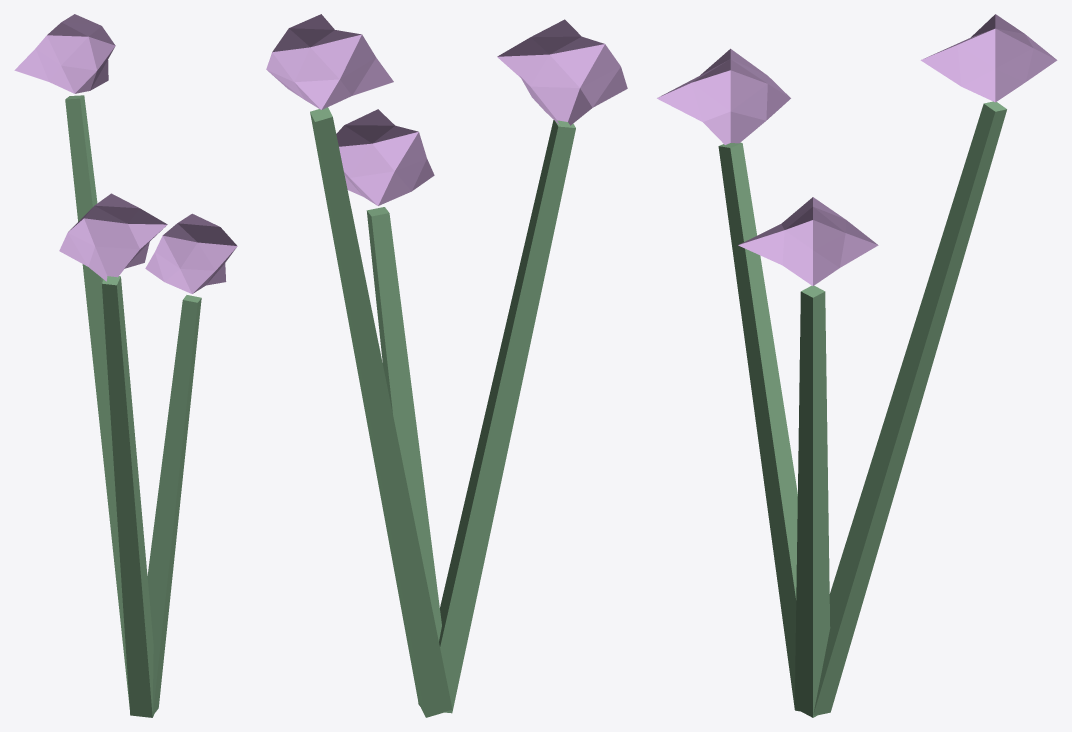
The model's file is flower_v33.glb.
3 views of the same model, side by side, from view 1: azimuth 30°, elevation 25°; view 2: azimuth 150°, elevation 25°; view 3: azimuth 270°, elevation 25° (orthographic). The views are drawn at different scales.
Parts seen in each view (by area): view 1: lod0; view 2: lod0; view 3: lod0.
Part boxes in pixels (x1,y1,x2,y2): lod0: [14, 14, 237, 717]; lod0: [266, 14, 627, 717]; lod0: [657, 14, 1057, 717].
Size of what is drawn, in the model's own units: 0.2713 by 0.7649 by 0.3941.
